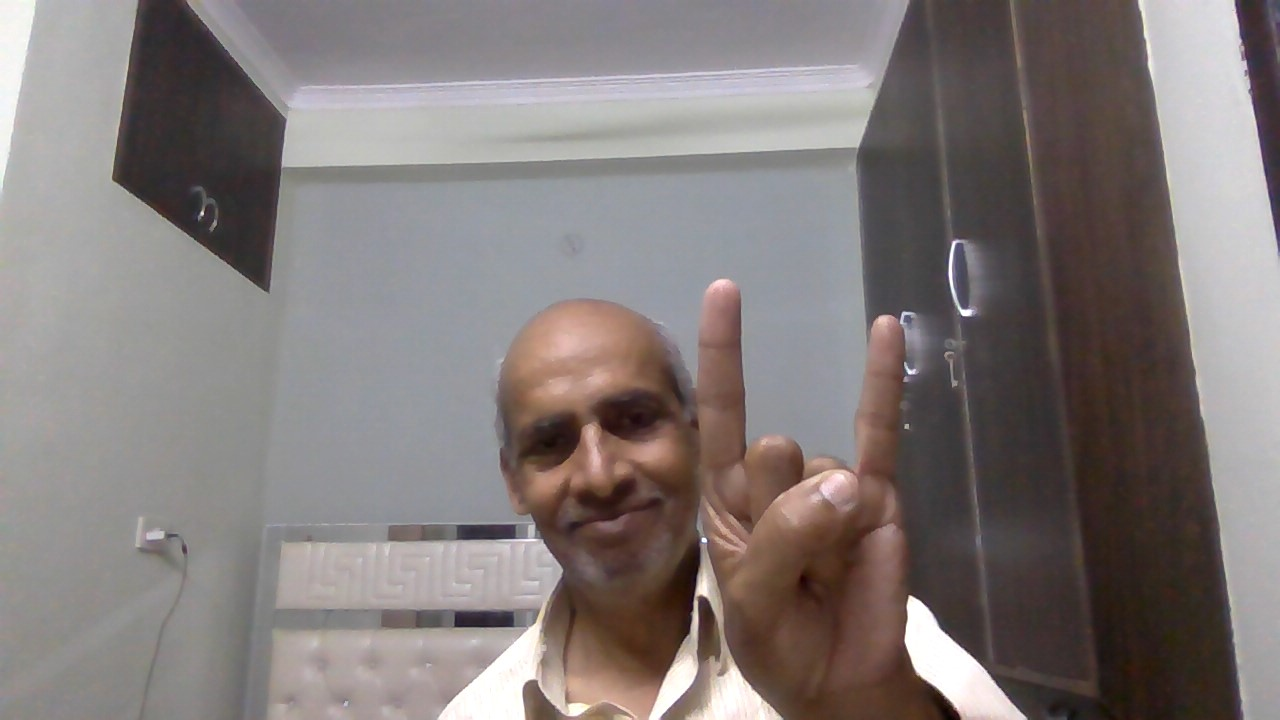Select All: (684, 266, 940, 703)
